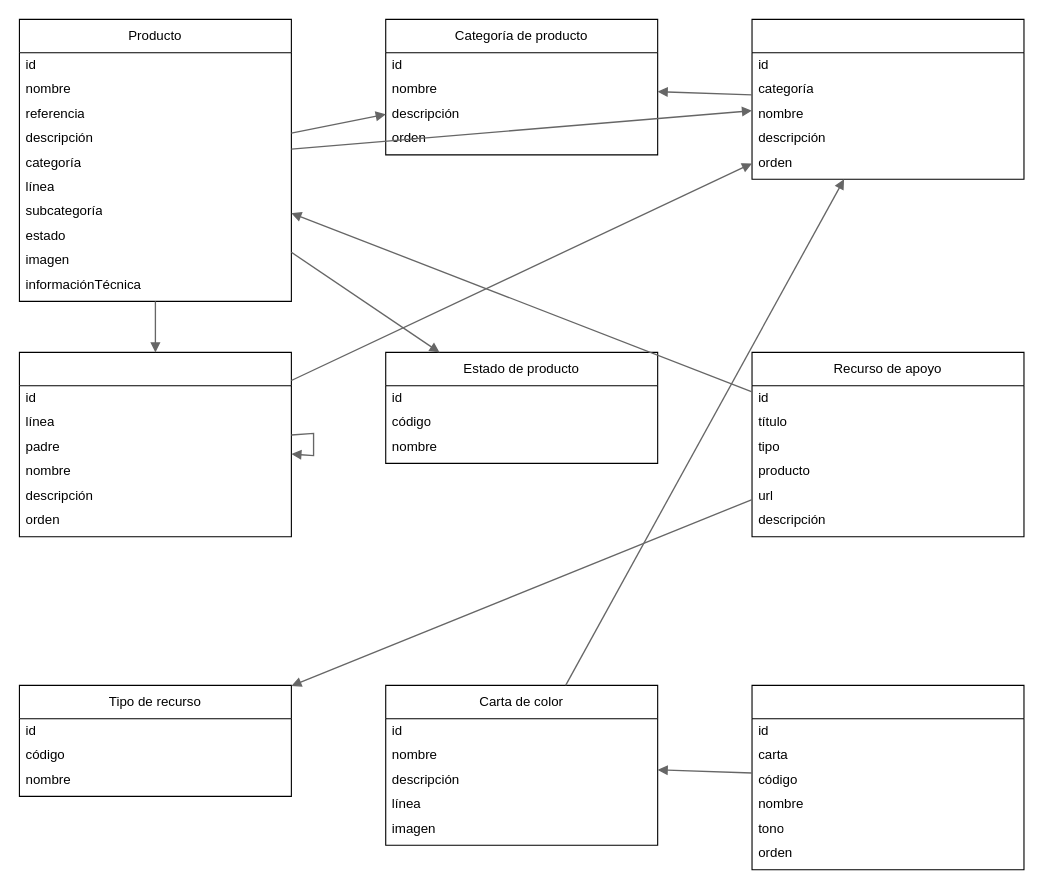
The diagram is 1043 pixels wide and 889 high, and some of its shapes have lost their labels. Each missing label, with the box of its shape:
Línea comercial: (751, 18, 1024, 179)
Referencia de color: (751, 684, 1024, 870)
Subcategoría de producto: (18, 351, 291, 537)
